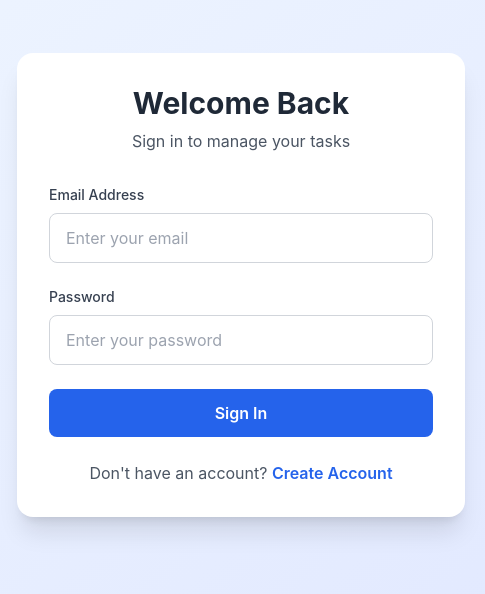
Scenario: Login Component › displays error when only password is provided
Type "password123" into the password field with test id "password-input".
click(241, 340); type("password123")  # box [49,315,433,365]
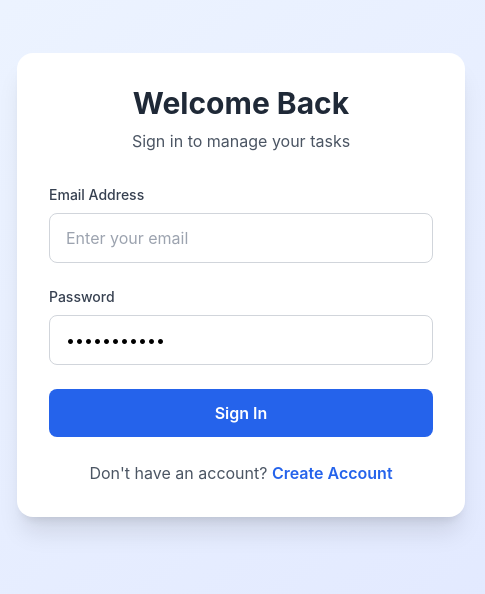
Click the button with test id "login-button".
click(241, 413)  # box [49,389,433,437]
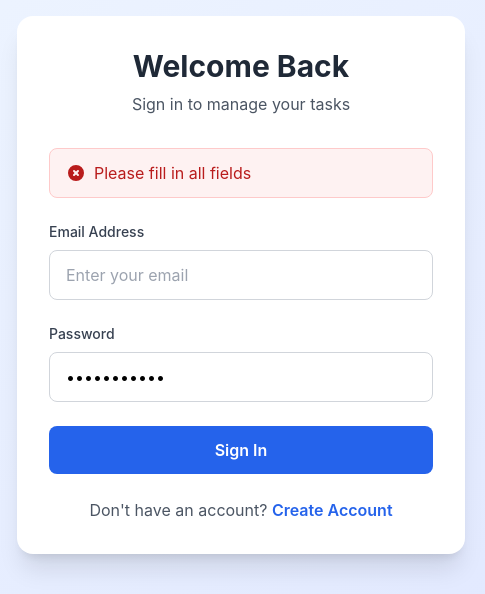
Check: the text "Please fill in all fields" is shown, box [94,161,251,185]
